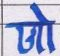e_matra: (30, 4, 49, 21)
